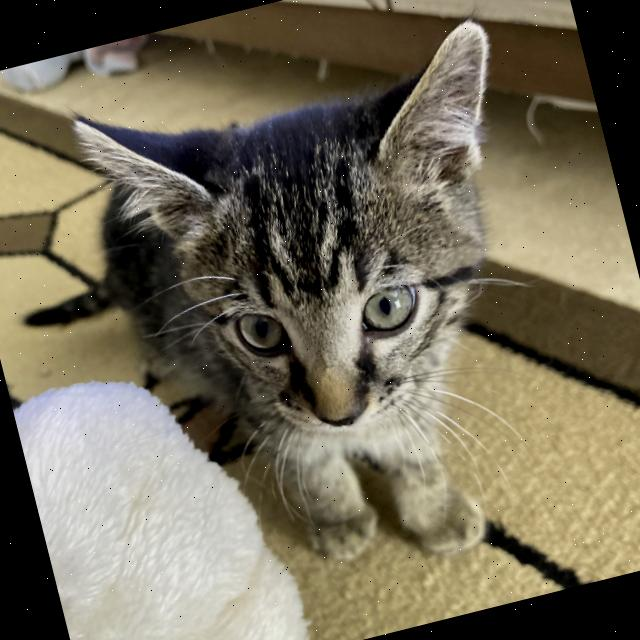american_shorthair_cat: (58, 0, 583, 491)
